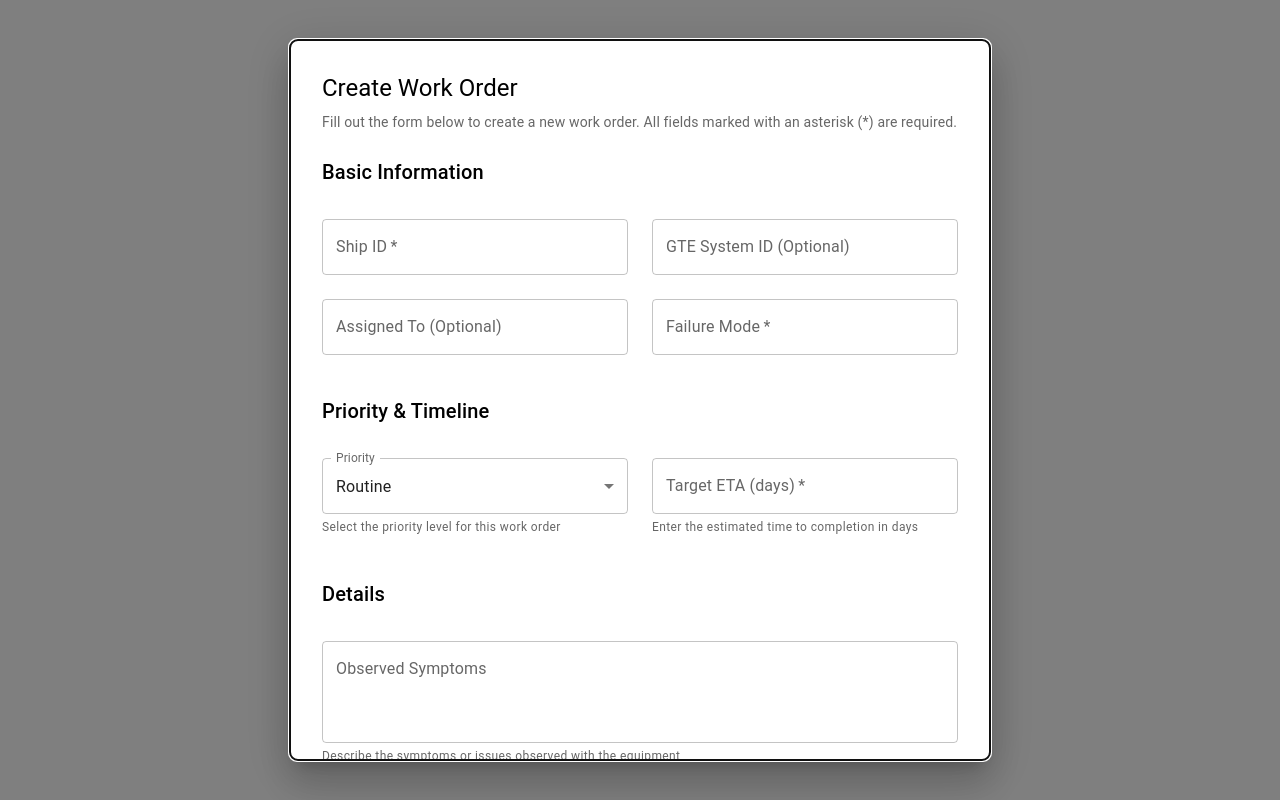
Test: WorkOrderModal › allows user to select priority
Click the dropdown: (364, 486) [336,477,391,496]
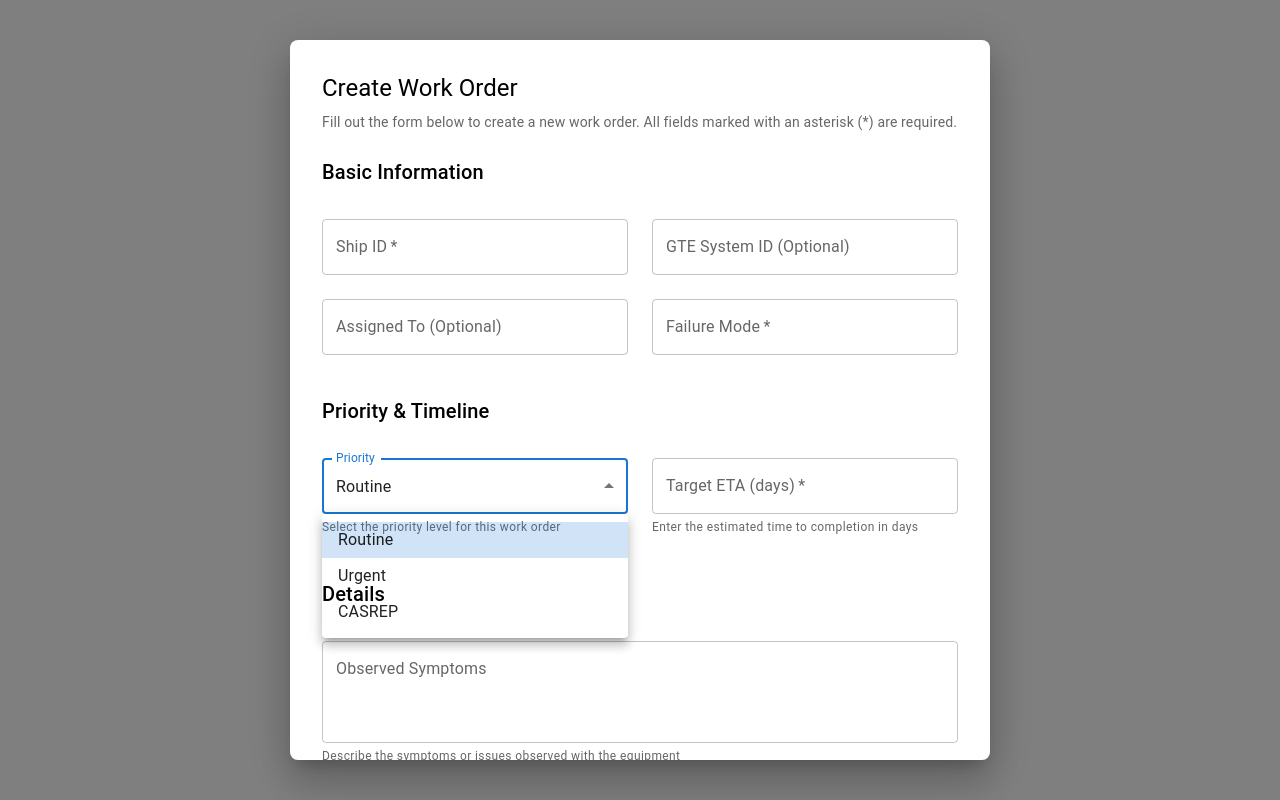
Click the option "CASREP": (368, 612) [338,602,398,621]
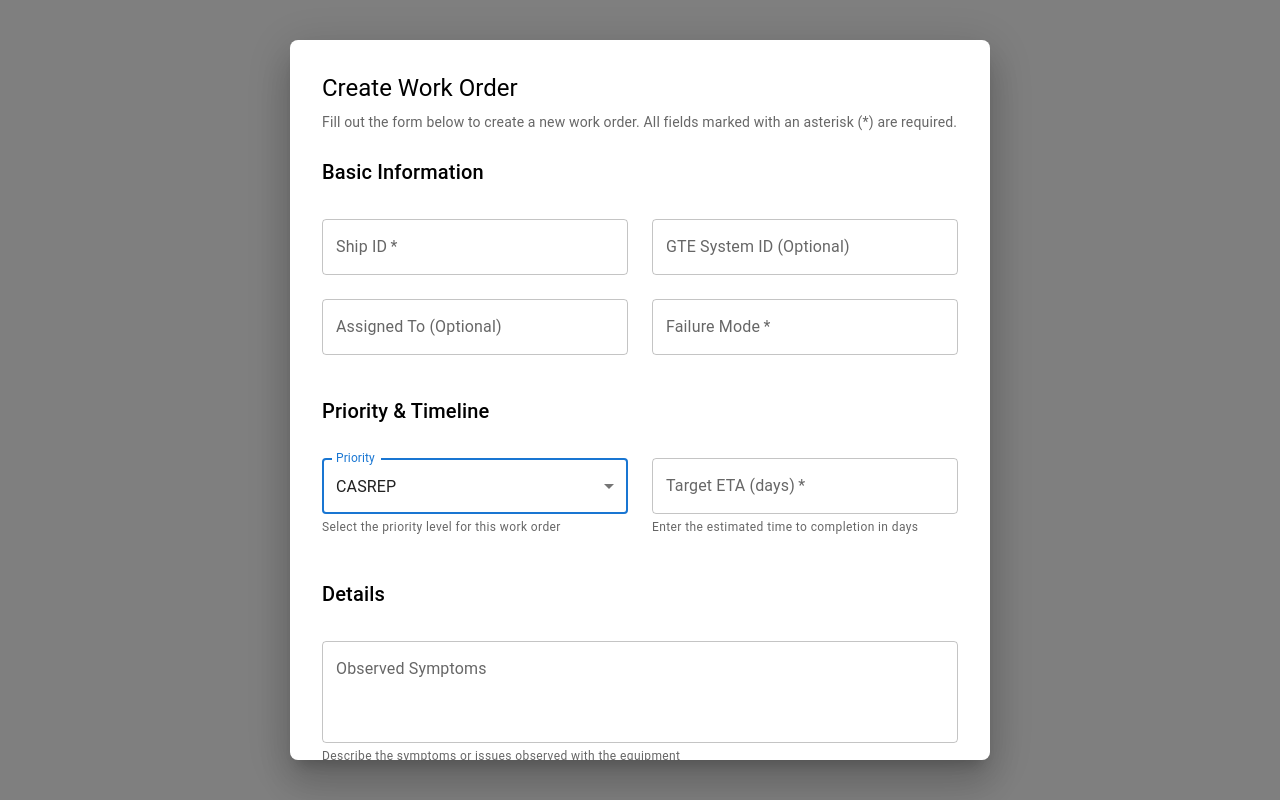
Check: the element showing "CASREP" is shown, box [322,458,628,514]
